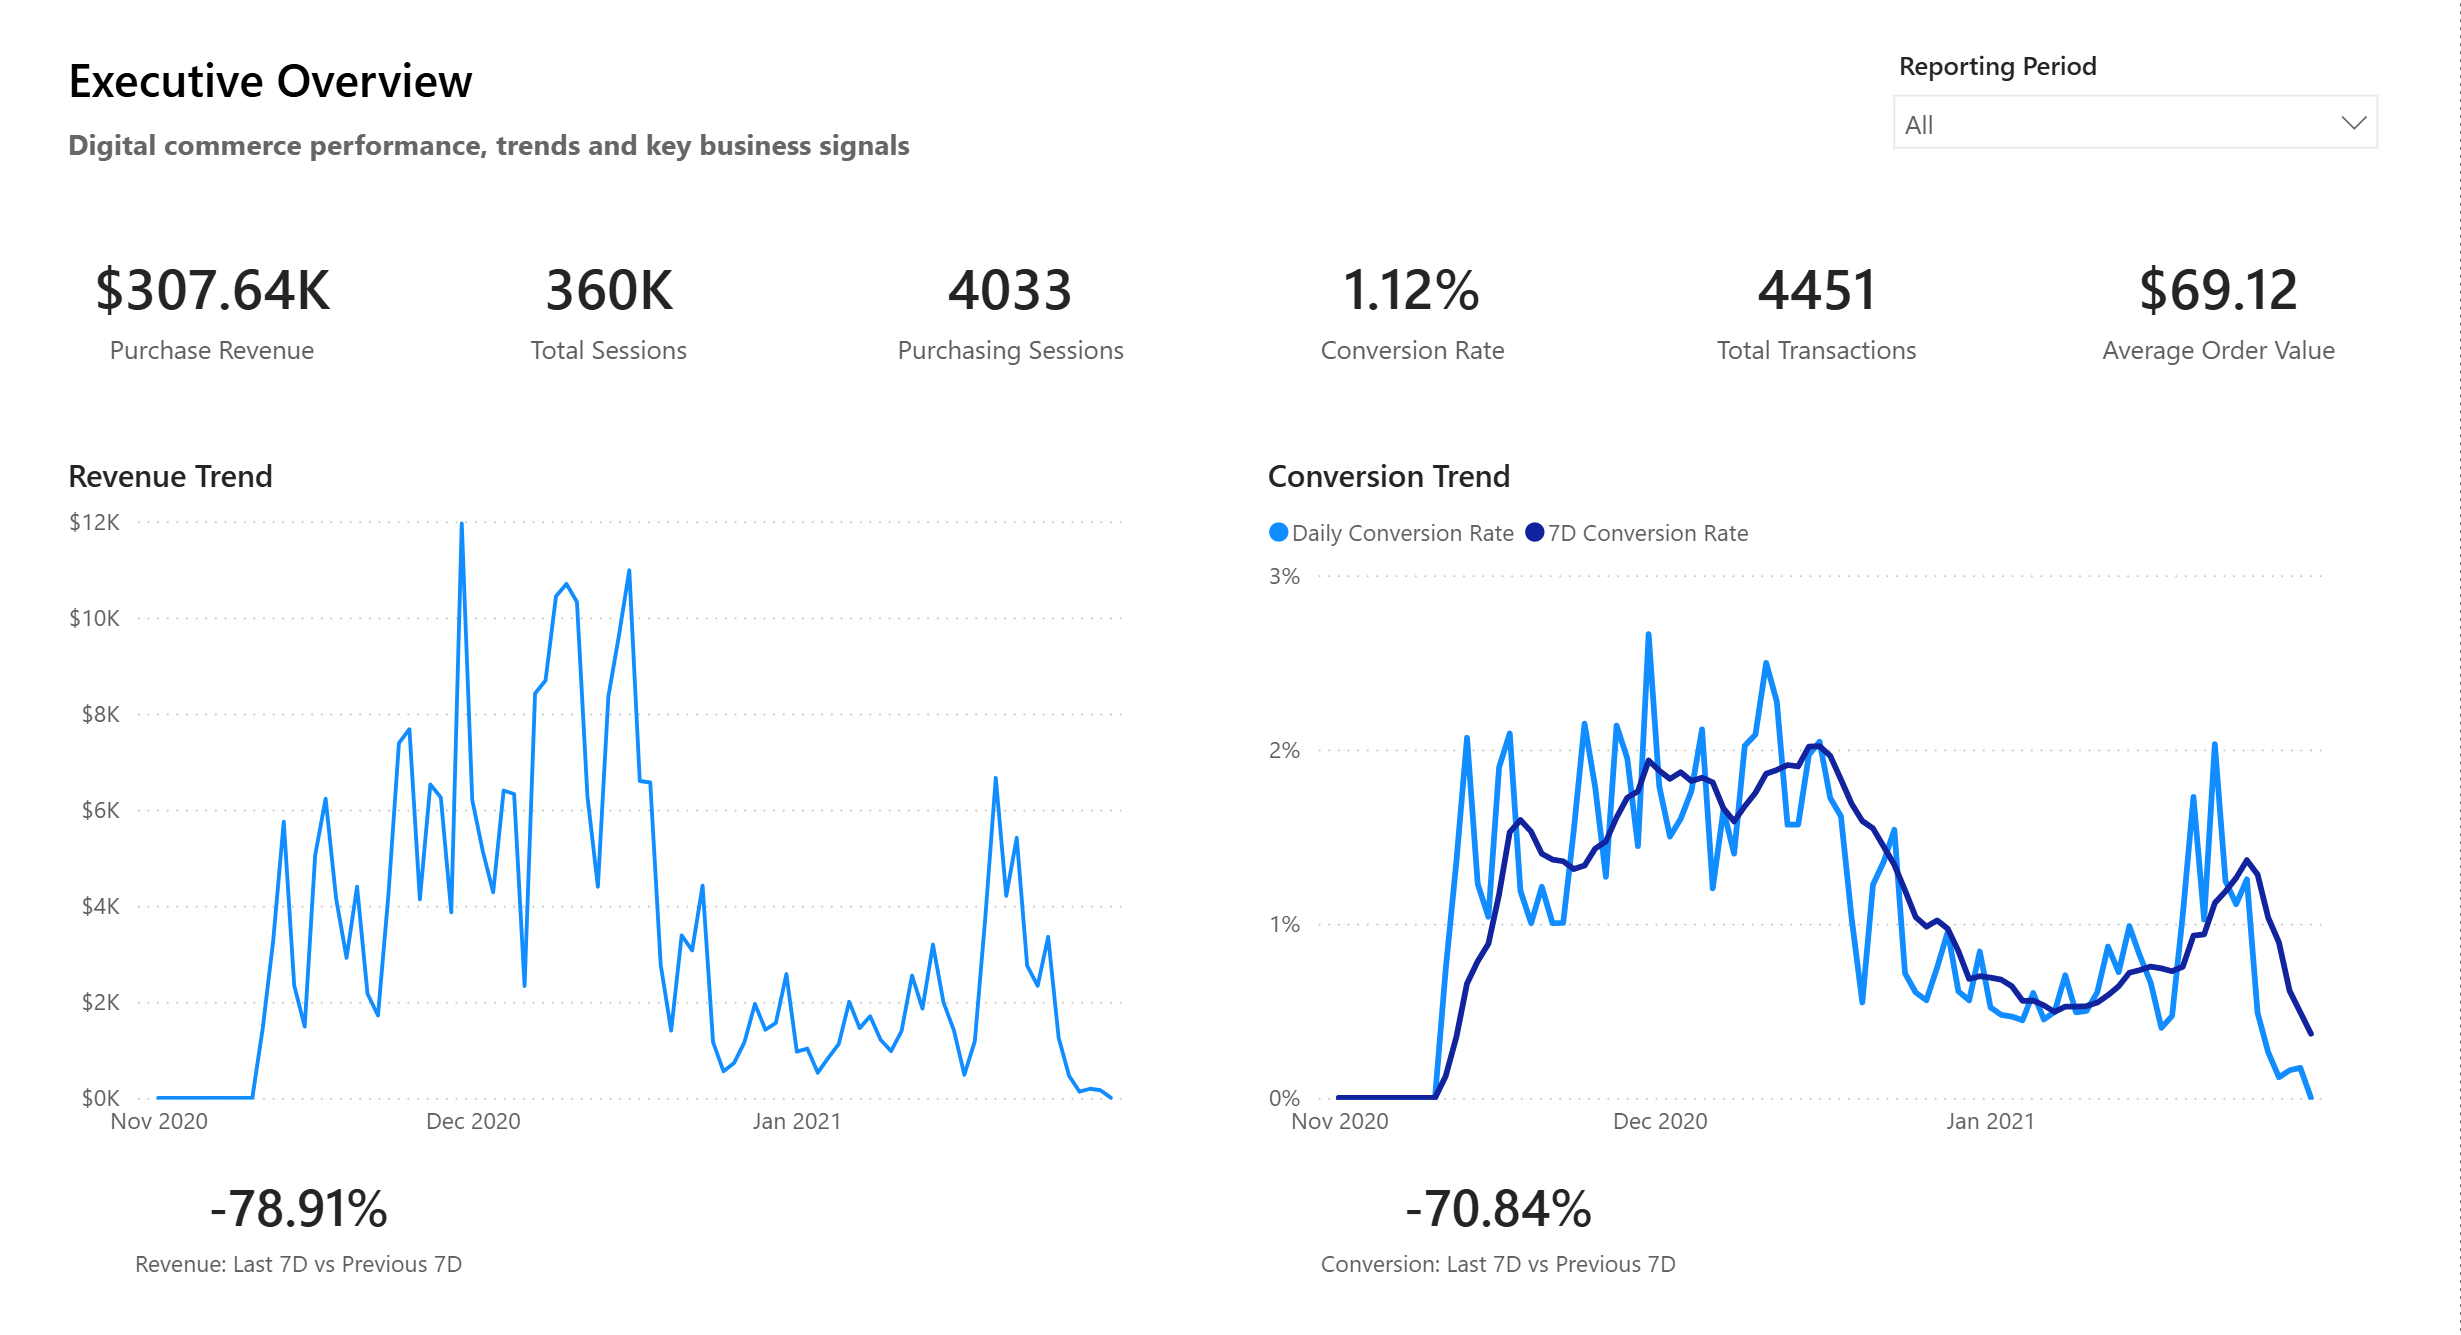

The dashboard page shown, as its layout file describes it:
{"tool":"powerbi","page":{"name":"Executive Overview","canvas":[1280,720],"ordinal":0},"visuals":[{"type":"textbox","box":[32,24,280,50],"z":0},{"type":"textbox","box":[32,64,688,48],"z":1000},{"type":"card","fields":{"Values":["Measures (2).Purchase Revenue"]},"box":[32,123.4,160,80],"z":2000},{"type":"card","fields":{"Values":["Measures (2).Conversion Rate"]},"box":[654,123.4,165,80],"z":3000},{"type":"card","fields":{"Values":["Measures (2).Total Transactions"]},"box":[863,123.4,165,80],"z":4000},{"type":"card","fields":{"Values":["Measures (2).Total Sessions"]},"box":[236,123.4,165,80],"z":5000},{"type":"card","fields":{"Values":["Measures (2).Purchasing Sessions"]},"box":[445,123.4,165,80],"z":6000},{"type":"card","fields":{"Values":["Measures (2).Average Order Value"]},"box":[1072,123.4,165,80],"z":7000},{"type":"lineChart","title":"Revenue Trend","fields":{"Category":["dim_date.date_day"],"Y":["Measures (2).Purchase Revenue","Measures (2).Revenue 7D"]},"box":[32,240,576,365],"z":8000},{"type":"lineChart","title":"Conversion Trend","fields":{"Category":["dim_date.date_day"],"Y":["Measures (2).Conversion Rate","Measures (2).Conversion Rate 7D"]},"box":[656,240,576,365],"z":9000},{"type":"card","fields":{"Values":["Measures (2).Revenue WoW Change %"]},"box":[32,608,250,65],"z":10000},{"type":"card","fields":{"Values":["Measures (2).Conversion Rate WoW Change %"]},"box":[656,608,250,65],"z":11000},{"type":"slicer","fields":{"Values":["dim_date.year_month"]},"box":[976,24,272,64],"z":12000}]}

Visuals, with their boxes on the page's 1280x720 design canvas (x1, y1, x2, y2). These are canvas units, not pixel positions in the 2461x1335 screenshot, which may show the page scaled, cropped or inside an application window:
textbox: (left=32, top=24, right=312, bottom=74)
textbox: (left=32, top=64, right=720, bottom=112)
card - Measures (2).Purchase Revenue: (left=32, top=123, right=192, bottom=203)
card - Measures (2).Conversion Rate: (left=654, top=123, right=819, bottom=203)
card - Measures (2).Total Transactions: (left=863, top=123, right=1028, bottom=203)
card - Measures (2).Total Sessions: (left=236, top=123, right=401, bottom=203)
card - Measures (2).Purchasing Sessions: (left=445, top=123, right=610, bottom=203)
card - Measures (2).Average Order Value: (left=1072, top=123, right=1237, bottom=203)
"Revenue Trend" lineChart: (left=32, top=240, right=608, bottom=605)
"Conversion Trend" lineChart: (left=656, top=240, right=1232, bottom=605)
card - Measures (2).Revenue WoW Change %: (left=32, top=608, right=282, bottom=673)
card - Measures (2).Conversion Rate WoW Change %: (left=656, top=608, right=906, bottom=673)
slicer - dim_date.year_month: (left=976, top=24, right=1248, bottom=88)
